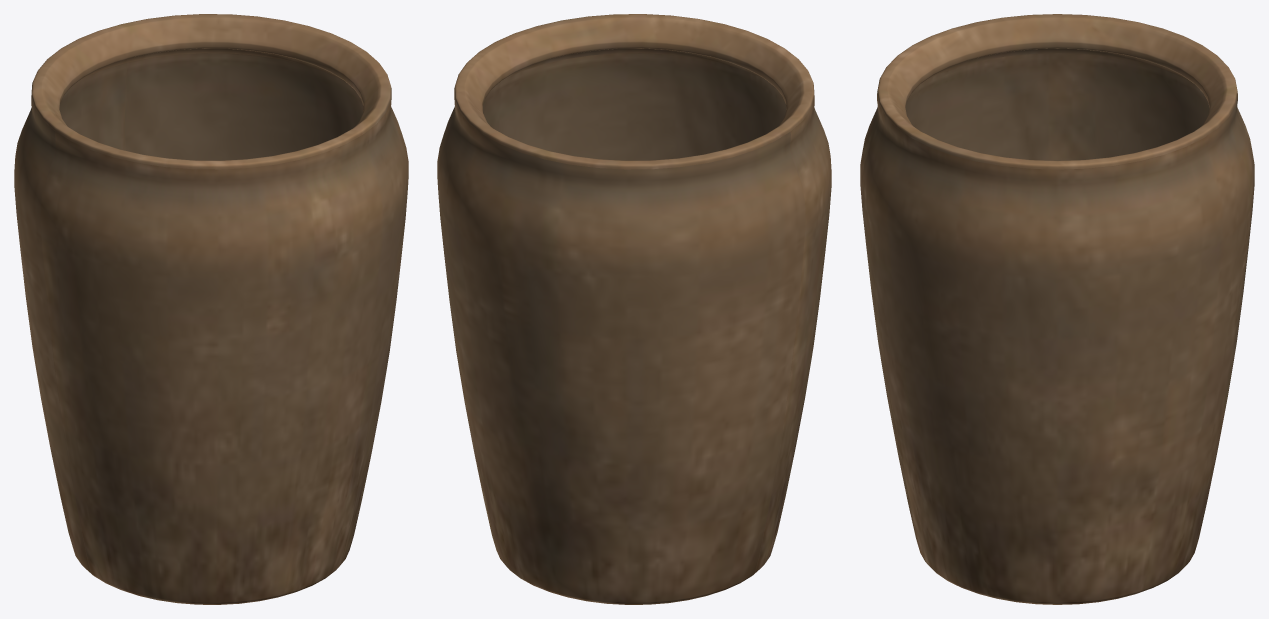
File: SM_Pot_A_Body.glb
The picture shows the model from 3 angles, left to right: view 1: azimuth 30°, elevation 25°; view 2: azimuth 150°, elevation 25°; view 3: azimuth 270°, elevation 25°; orthographic projection.
Visible parts, largest first — view 1: SM_Pot_A_Body; view 2: SM_Pot_A_Body; view 3: SM_Pot_A_Body.
Part boxes in pixels (x1,y1,x2,y2): SM_Pot_A_Body: (14, 14, 408, 604); SM_Pot_A_Body: (437, 14, 831, 604); SM_Pot_A_Body: (860, 14, 1254, 604).
Bounding box in the file's own units: 0.3373 × 0.4352 × 0.3373.
Materials: 1 (1 with a texture image).
